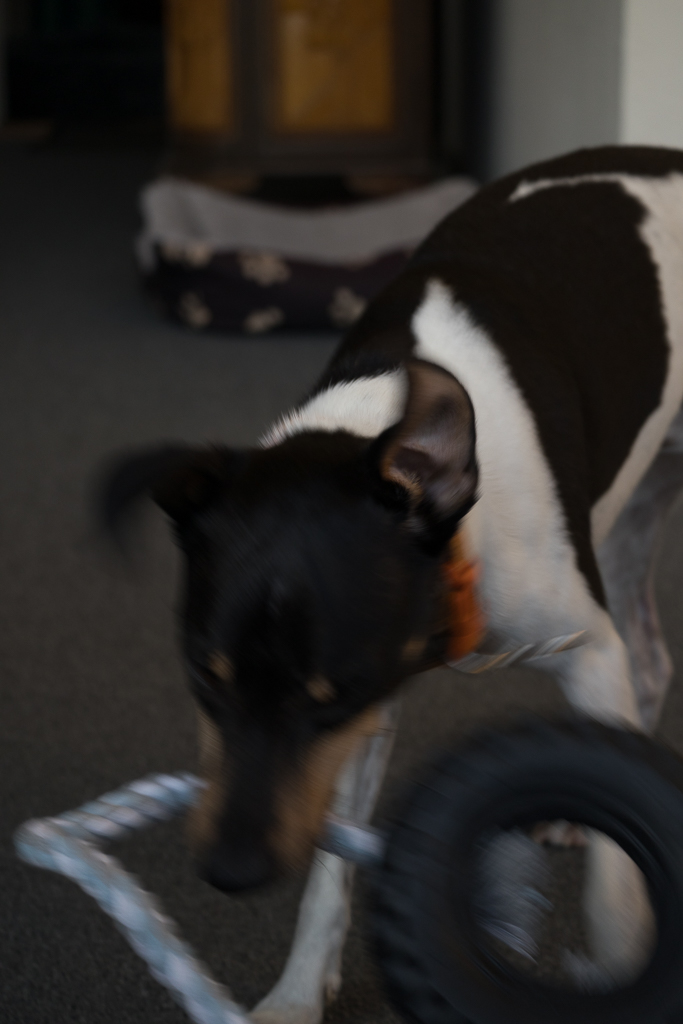Dog: (70, 133, 683, 1024)
